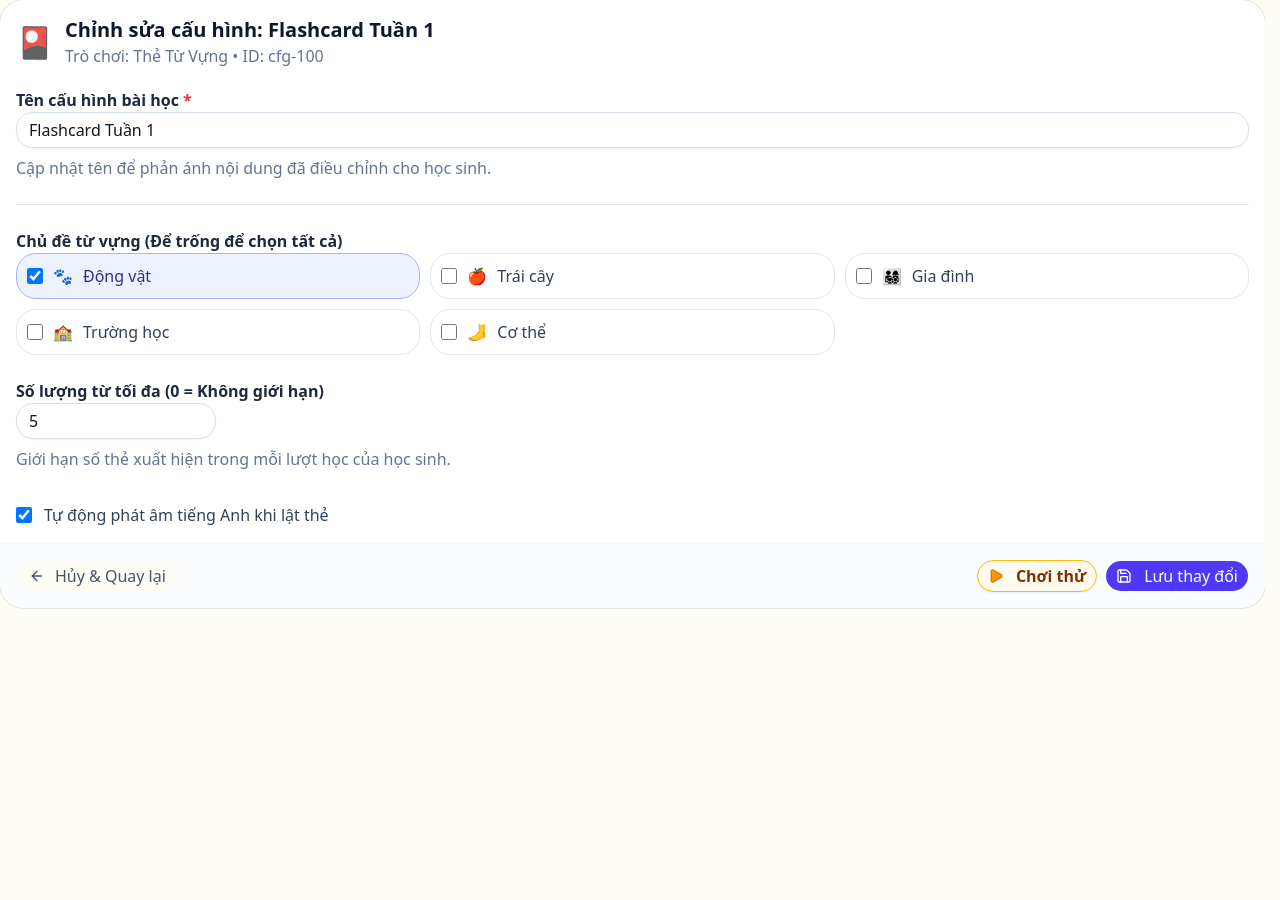
Test: ConfigEditForm Component › displays error message if updateConfig fails
This screenshot has width=1280, height=900.
What coordinates should you click on to do the following:
click the button "Lưu thay đổi"
I would click on:
 (1177, 576)
Its box is x1=1105 y1=560 x2=1249 y2=592.
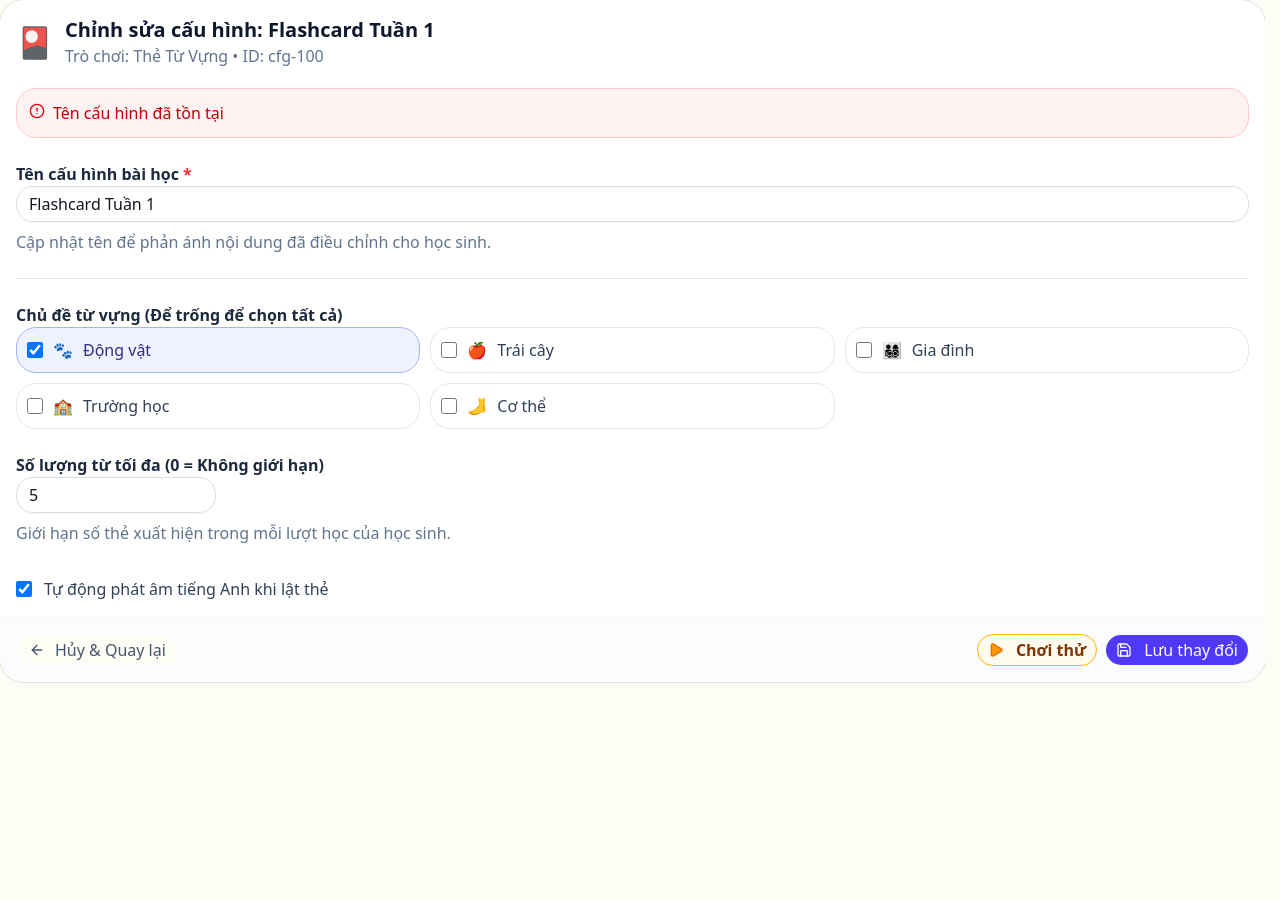
Check: the message reads "Tên cấu hình đã tồn tại", box x1=53 y1=102 x2=224 y2=124
